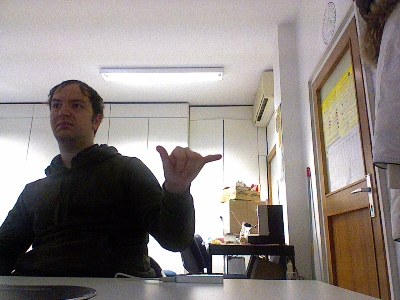六六六: (153, 142, 224, 188)
